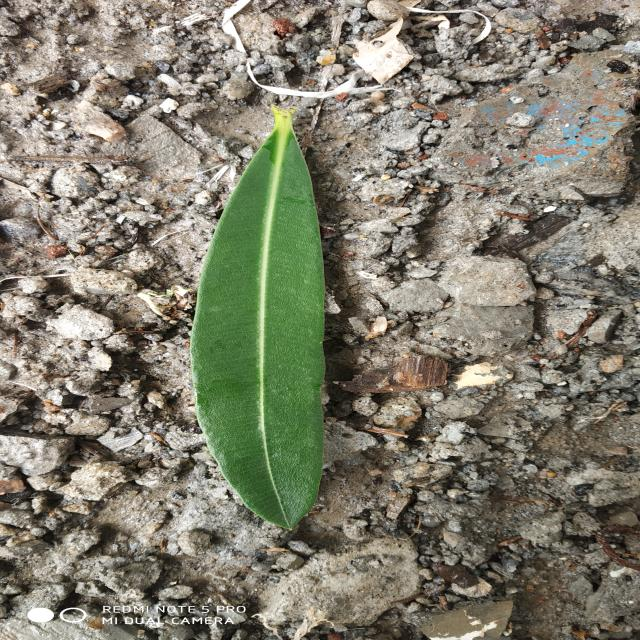ganigale: (191, 108, 324, 529)
